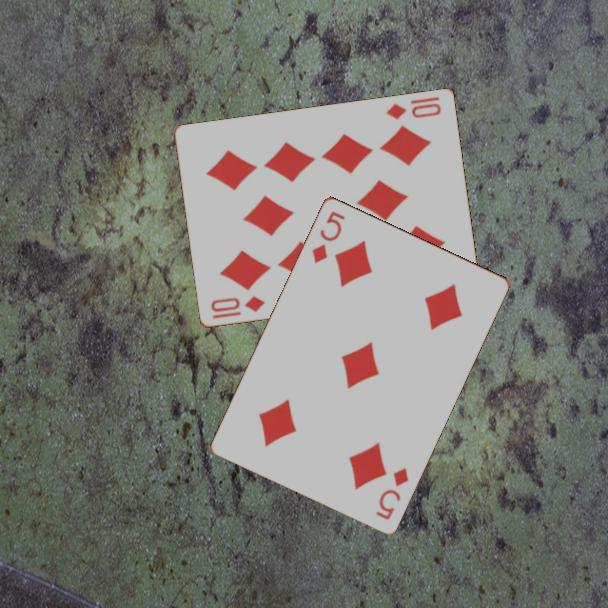d05: (372, 463, 412, 522), (308, 207, 347, 266)
d10: (207, 292, 268, 322), (382, 94, 444, 123)
